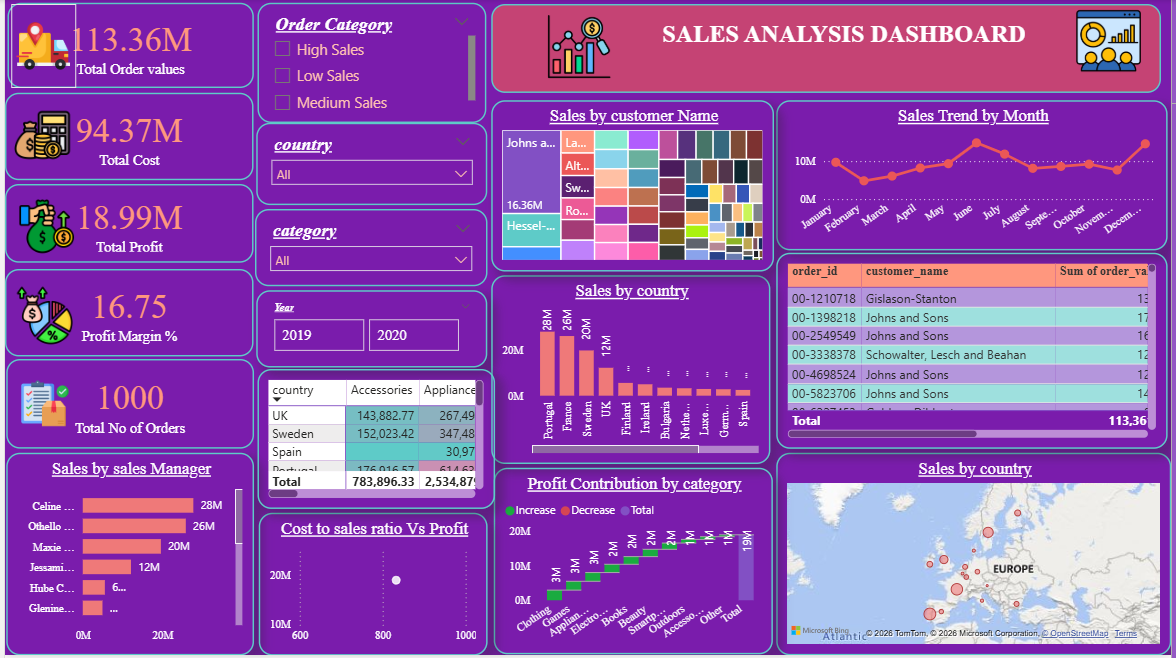

This screenshot's page, from the dashboard's own definition file:
{"tool":"powerbi","page":{"name":"Page 1","canvas":[1280,720],"ordinal":0},"visuals":[{"type":"slicer","fields":{"Values":["new sales.country"]},"box":[275.8,135.8,253.9,90.6],"z":0},{"type":"slicer","fields":{"Values":["new sales.category"]},"box":[274.4,230.5,255.2,85.1],"z":1000},{"type":"slicer","fields":{"Values":["new sales.date.Variation.Date Hierarchy.Year"]},"box":[275.8,319.7,253.9,85.1],"z":2000},{"type":"slicer","fields":{"Values":["new sales.\"(order Category"]},"box":[277.2,4.1,251.1,131.7],"z":3000},{"type":"card","fields":{"Values":["new sales.Total Order values"]},"box":[2.7,4.1,270.3,93.3],"z":4000},{"type":"card","fields":{"Values":["new sales.Total Cost"]},"box":[0,102.9,273.1,96.1],"z":5000},{"type":"card","fields":{"Values":["new sales.Profit"]},"box":[0,203.1,273.1,86.4],"z":6000},{"type":"card","fields":{"Values":["new sales.Profit Margin"]},"box":[0,296.4,273.1,96.1],"z":7000},{"type":"card","fields":{"Values":["new sales.Total No of Orders"]},"box":[1.4,395.2,271.7,98.8],"z":8000},{"type":"image","box":[6.9,5.5,71.4,91.9],"z":9000},{"type":"image","box":[4.1,102.9,74.1,93.3],"z":10000},{"type":"image","box":[11,209.9,70,79.6],"z":11000},{"type":"image","box":[6.9,301.9,74.1,90.6],"z":12000},{"type":"image","box":[8.2,413,71.4,61.7],"z":13000},{"type":"textbox","box":[533.8,5.5,735.5,97.4],"z":14000},{"type":"image","box":[561.2,11,138.6,82.3],"z":15000},{"type":"image","box":[1143.1,5.5,137.2,81],"z":16000},{"type":"columnChart","title":"Sales by country","fields":{"Category":["new sales.country"],"Y":["Sum(new sales.order_value_EUR)"]},"box":[533.8,303.3,306,207.2],"z":17000},{"type":"lineChart","title":"Sales Trend by Month","fields":{"Category":["new sales.date.Variation.Date Hierarchy.Month"],"Y":["Sum(new sales.order_value_EUR)"]},"box":[846.7,111.1,429.5,164.7],"z":18000},{"type":"clusteredBarChart","title":"Sales by sales Manager","fields":{"Category":["new sales.sales_manager"],"Y":["Sum(new sales.order_value_EUR)"]},"box":[1.4,498.1,271.7,222.3],"z":19000},{"type":"treemap","title":"Sales by customer Name","fields":{"Group":["new sales.customer_name"],"Values":["Sum(new sales.order_value_EUR)"]},"box":[533.8,111.1,310.1,188],"z":20000},{"type":"map","title":"Sales by country","fields":{"Category":["new sales.country"],"Size":["Sum(new sales.order_value_EUR)"]},"box":[846.7,498.1,433.6,222.3],"z":21000},{"type":"waterfallChart","title":"Profit Contribution  by category","fields":{"Category":["new sales.category"],"Y":["Sum(new sales.Profit)"]},"box":[536.5,514.6,306,204.5],"z":22000},{"type":"scatterChart","title":"Cost to sales ratio Vs Profit","fields":{"X":["Sum(new sales.Cost to sales ratio)"],"Y":["Sum(new sales.Profit)"]},"box":[278.6,564,251.1,156.4],"z":23000},{"type":"tableEx","fields":{"Values":["new sales.order_id","new sales.customer_name","Sum(new sales.order_value_EUR)","Sum(new sales.cost)","new sales.Order Category","Sum(new sales.Profit)"]},"box":[846.7,278.6,429.5,215.4],"z":24000},{"type":"pivotTable","fields":{"Values":["Sum(new sales.Profit)"],"Rows":["new sales.country"],"Columns":["new sales.category"]},"box":[277.2,405.9,260.7,153.7],"z":25000}]}

Visuals, with their boxes in screenshot pixels (x1, y1, x2, y2), scaled from the page's 1280x720 canvas onto the 1176x658 screenshot:
slicer - new sales.country: x1=253, y1=124, x2=487, y2=207
slicer - new sales.category: x1=252, y1=211, x2=487, y2=288
slicer - new sales.date.Variation.Date Hierarchy.Year: x1=253, y1=292, x2=487, y2=370
slicer - new sales."(order Category: x1=255, y1=4, x2=485, y2=124
card - new sales.Total Order values: x1=2, y1=4, x2=251, y2=89
card - new sales.Total Cost: x1=0, y1=94, x2=251, y2=182
card - new sales.Profit: x1=0, y1=186, x2=251, y2=265
card - new sales.Profit Margin: x1=0, y1=271, x2=251, y2=359
card - new sales.Total No of Orders: x1=1, y1=361, x2=251, y2=451
image: x1=6, y1=5, x2=72, y2=89
image: x1=4, y1=94, x2=72, y2=179
image: x1=10, y1=192, x2=74, y2=265
image: x1=6, y1=276, x2=74, y2=359
image: x1=8, y1=377, x2=73, y2=434
textbox: x1=490, y1=5, x2=1166, y2=94
image: x1=516, y1=10, x2=643, y2=85
image: x1=1050, y1=5, x2=1175, y2=79
"Sales by country" columnChart: x1=490, y1=277, x2=772, y2=467
"Sales Trend by Month" lineChart: x1=778, y1=102, x2=1173, y2=252
"Sales by sales Manager" clusteredBarChart: x1=1, y1=455, x2=251, y2=657
"Sales by customer Name" treemap: x1=490, y1=102, x2=775, y2=273
"Sales by country" map: x1=778, y1=455, x2=1175, y2=657
"Profit Contribution  by category" waterfallChart: x1=493, y1=470, x2=774, y2=657
"Cost to sales ratio Vs Profit" scatterChart: x1=256, y1=515, x2=487, y2=657
tableEx - new sales.order_id x new sales.customer_name: x1=778, y1=255, x2=1173, y2=451
pivotTable - Sum(new sales.Profit) x new sales.country: x1=255, y1=371, x2=494, y2=511
